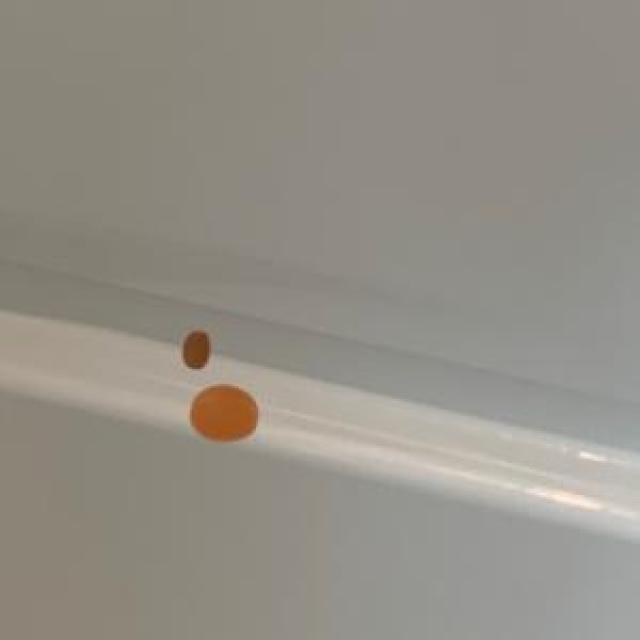Bactidol: (185, 381, 264, 452), (178, 324, 216, 373)
